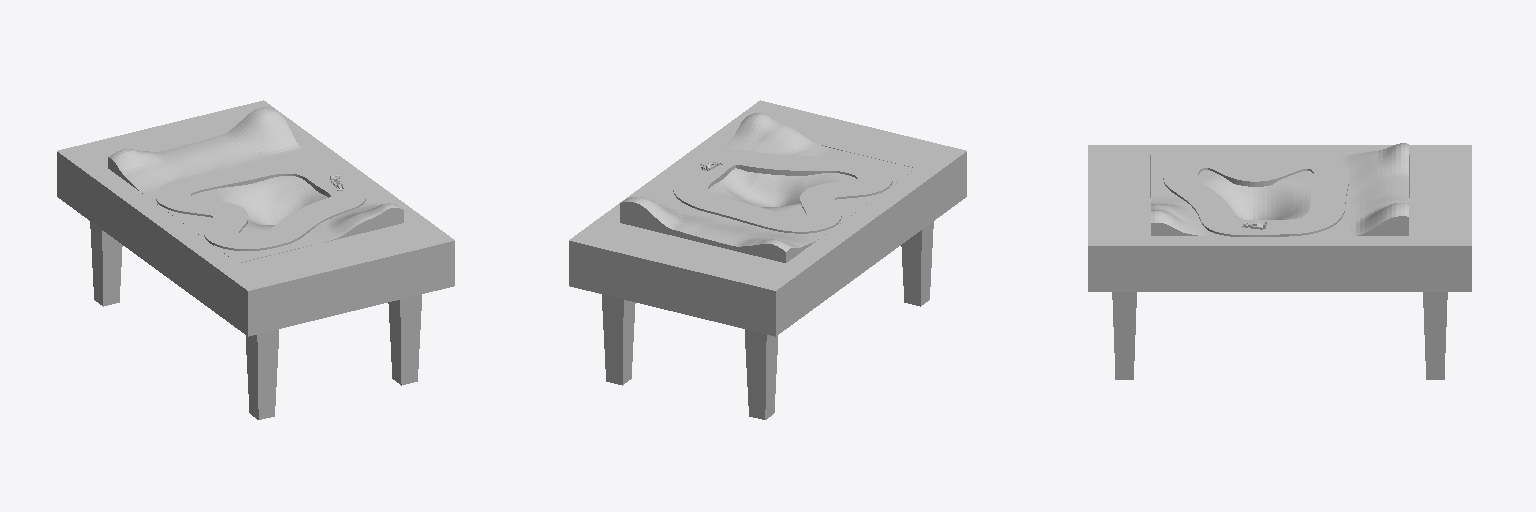
File: NewestTisch27.obj
3 renders of one model, left to right at view 1: azimuth 30°, elevation 25°; view 2: azimuth 150°, elevation 25°; view 3: azimuth 270°, elevation 25°, orthographic.
Parts seen in each view (by area): view 1: Tischplatte_wood_table_001, Landschaft_aerial_grass_rock, off, Bein1_wood_table_001, Bein4_wood_table_001.003, Bein3_wood_table_001.002; view 2: Tischplatte_wood_table_001, Landschaft_aerial_grass_rock, off, Bein2_wood_table_001.001, Bein3_wood_table_001.002, Bein4_wood_table_001.003; view 3: Tischplatte_wood_table_001, Landschaft_aerial_grass_rock, off, Bein1_wood_table_001, Bein2_wood_table_001.001.
Part boxes in pixels (x1,y1,x2,y2): Tischplatte_wood_table_001: (57, 100, 454, 336); Landschaft_aerial_grass_rock: (108, 107, 403, 262); off: (156, 159, 365, 250); Bein1_wood_table_001: (388, 294, 421, 385); Bein4_wood_table_001.003: (246, 329, 278, 419); Bein3_wood_table_001.002: (90, 221, 122, 306); Tischplatte_wood_table_001: (569, 100, 966, 336); Landschaft_aerial_grass_rock: (620, 113, 915, 262); off: (673, 150, 892, 233); Bein2_wood_table_001.001: (602, 294, 635, 385); Bein3_wood_table_001.002: (745, 329, 777, 419); Bein4_wood_table_001.003: (901, 221, 933, 306); Tischplatte_wood_table_001: (1088, 145, 1471, 291); Landschaft_aerial_grass_rock: (1151, 143, 1408, 235); off: (1163, 153, 1348, 236); Bein1_wood_table_001: (1112, 292, 1136, 379); Bein2_wood_table_001.001: (1423, 292, 1447, 379).
Bounding box in the file's own units: 5 × 3.91 × 8.